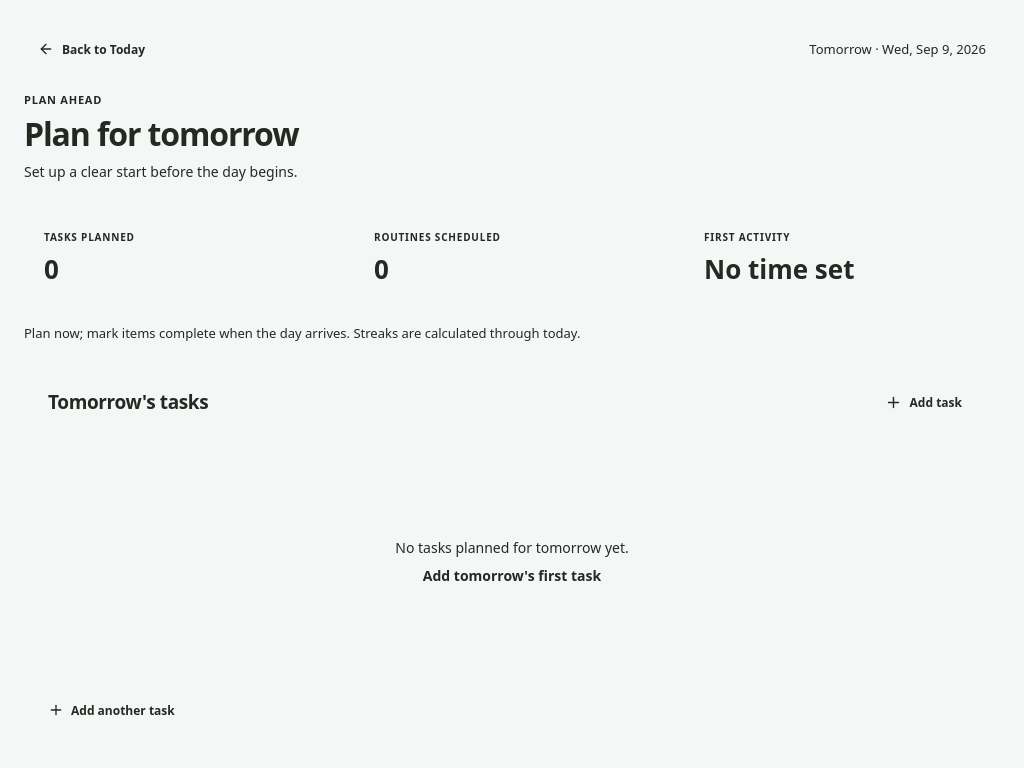
Test case: updates tomorrow after midnight while preserving an open form date
The width and height of the screenshot is (1024, 768).
Step 1. Click the button "Add task" → (923, 403), box [870,384,976,422]
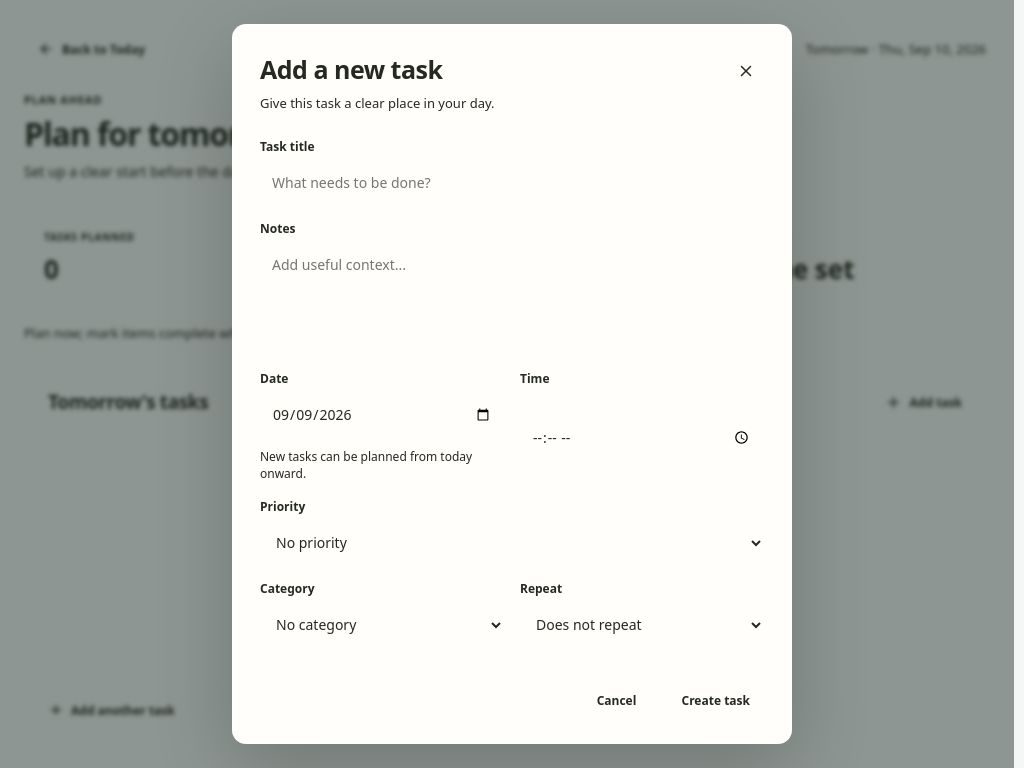
Expected: the text "Thu, Sep 10, 2026" is shown, [878,40,986,58]
Expected: the date field labelled "Date New tasks can be planned from today onward." holds "2026-09-09", [260,394,504,436]
